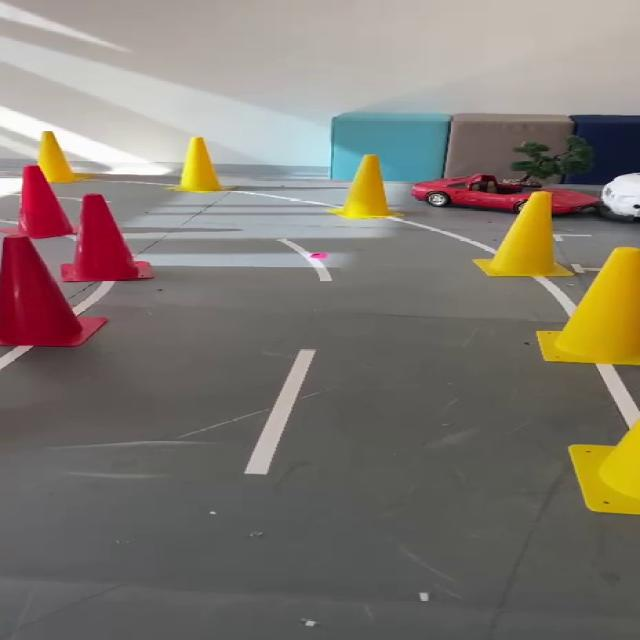Cone-red: (19, 165, 150, 281), (0, 235, 106, 346)
Cones-yellow: (537, 248, 639, 365), (473, 191, 571, 276), (570, 419, 639, 514), (330, 155, 396, 218), (37, 131, 90, 183), (175, 138, 225, 192)
